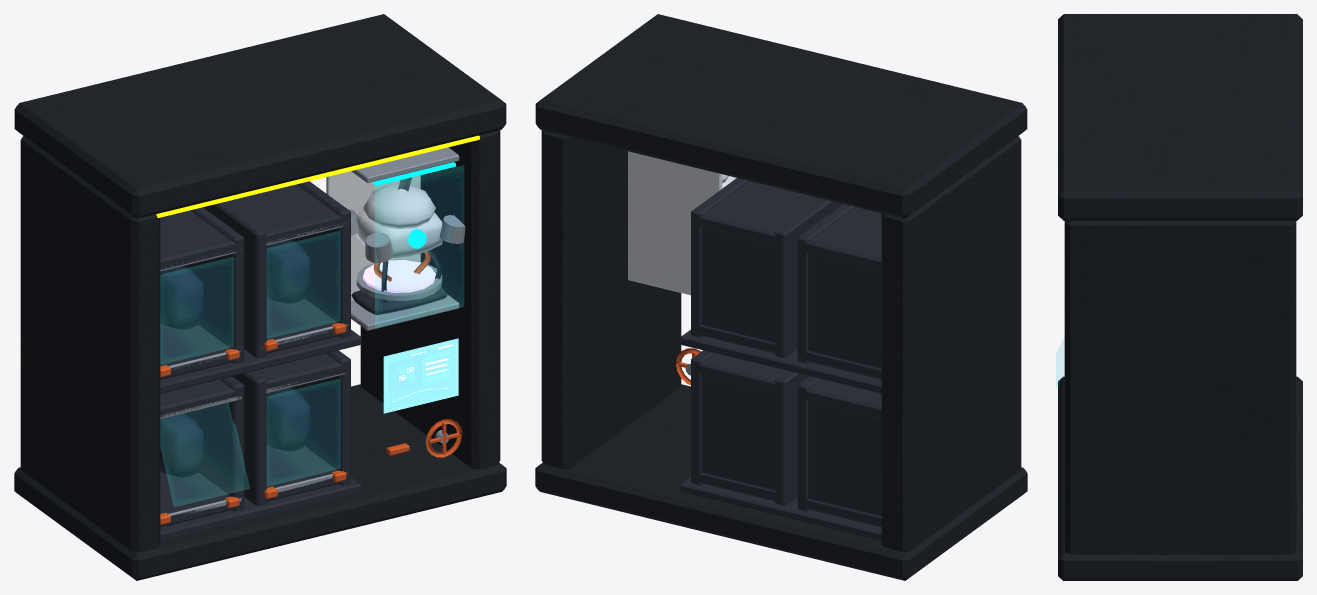
Rendered from cargo_gantry_r1_03.glb.
3 views of the same model, side by side, from view 1: azimuth 30°, elevation 25°; view 2: azimuth 150°, elevation 25°; view 3: azimuth 270°, elevation 25° (orthographic).
Visible parts, largest first — view 1: Cargo03_HexHiveGunmetalFrame, Cargo03_CarbonSlateHexCells, Cargo03_TranslucentHexPortholesAndShield, Cargo03_NavyPalletPacks, Cargo03_LoaderArmAndThrusters, Cargo03_WhiteDroneAndDrums, Cargo03_OLEDManifestConsole, Cargo03_SignalOrangeForkliftClaws, Cargo03_AmberSafetyStrip, Cargo03_UVChargeRing, Cargo03_CharcoalPadsAndHoses, Cargo03_CyanHiveLEDs; view 2: Cargo03_HexHiveGunmetalFrame, Cargo03_CarbonSlateHexCells, Cargo03_WhiteDroneAndDrums; view 3: Cargo03_HexHiveGunmetalFrame.
Part boxes in pixels (bbox=[...]): Cargo03_HexHiveGunmetalFrame: bbox=[14, 14, 506, 580]; Cargo03_CarbonSlateHexCells: bbox=[160, 181, 361, 540]; Cargo03_TranslucentHexPortholesAndShield: bbox=[161, 166, 463, 506]; Cargo03_NavyPalletPacks: bbox=[160, 240, 310, 477]; Cargo03_LoaderArmAndThrusters: bbox=[160, 147, 465, 515]; Cargo03_WhiteDroneAndDrums: bbox=[326, 171, 442, 300]; Cargo03_OLEDManifestConsole: bbox=[383, 338, 458, 413]; Cargo03_SignalOrangeForkliftClaws: bbox=[160, 251, 462, 524]; Cargo03_AmberSafetyStrip: bbox=[156, 135, 479, 217]; Cargo03_UVChargeRing: bbox=[363, 260, 435, 292]; Cargo03_CharcoalPadsAndHoses: bbox=[351, 249, 447, 315]; Cargo03_CyanHiveLEDs: bbox=[372, 162, 455, 248]; Cargo03_HexHiveGunmetalFrame: bbox=[535, 14, 1027, 580]; Cargo03_CarbonSlateHexCells: bbox=[680, 178, 881, 540]; Cargo03_WhiteDroneAndDrums: bbox=[628, 151, 736, 295]; Cargo03_HexHiveGunmetalFrame: bbox=[1058, 14, 1302, 580].
Bounding box in the file's own units: 2.6 × 2.6 × 1.49.
Materials: 12 (12 with a texture image).
